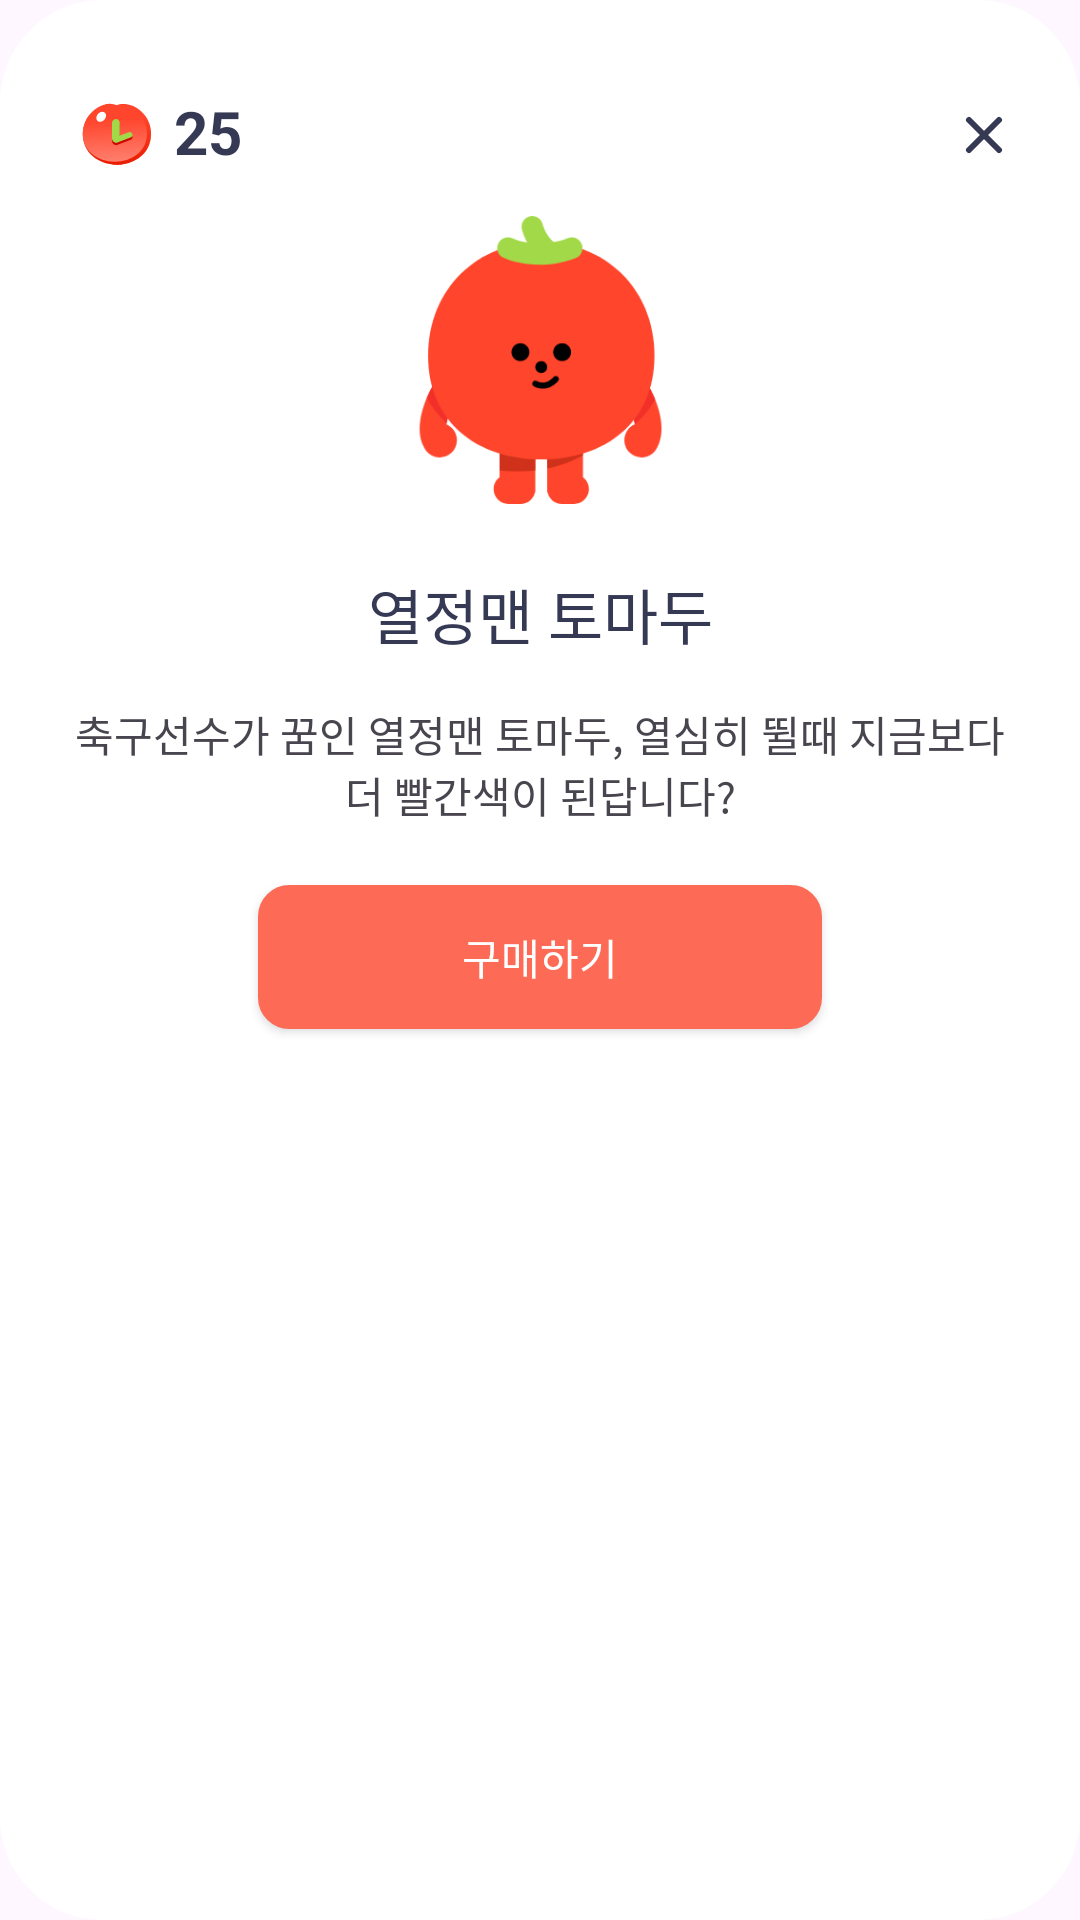

Icon click points for this 1080x1920 phone screenshot, format (x,y):
close: (984,135)
point: (116,134)
